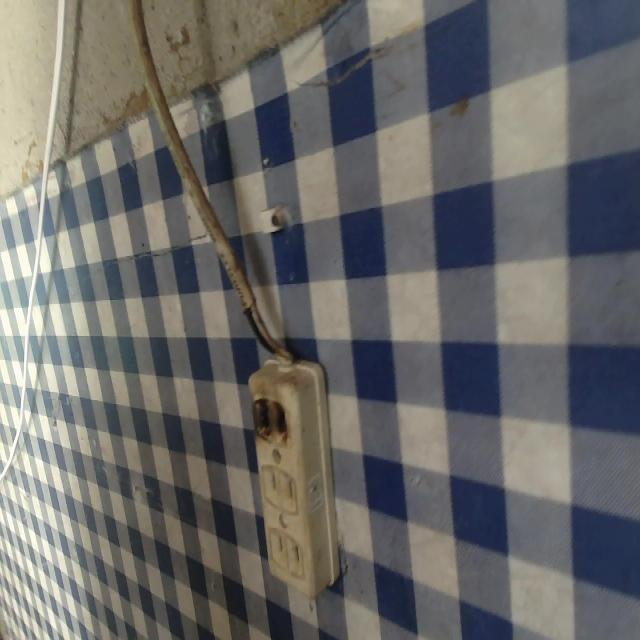-: (246, 385, 291, 448)
